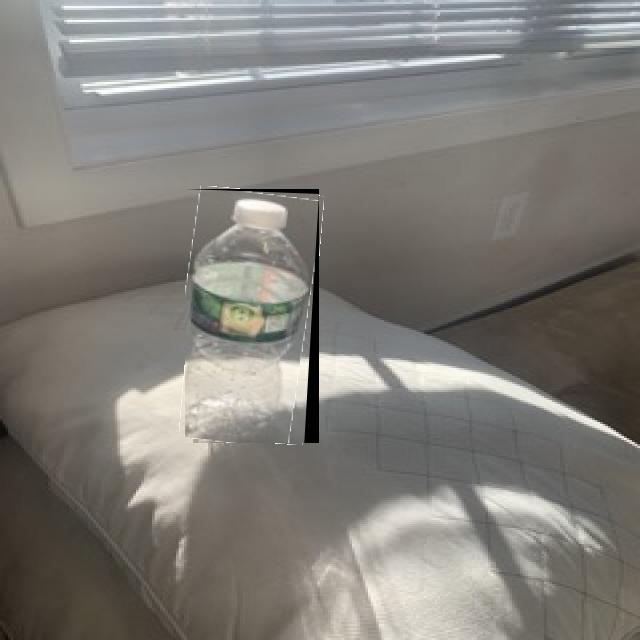water_bottle: (185, 189, 319, 443)
